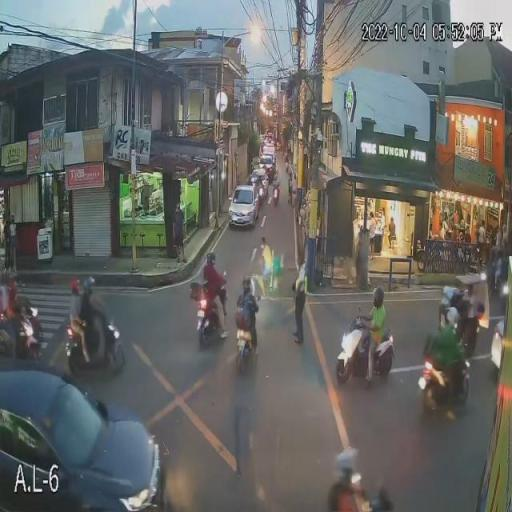helmet: (336, 448, 361, 476), (436, 303, 459, 331), (369, 287, 386, 308), (81, 276, 97, 294), (242, 274, 254, 293), (69, 278, 81, 296), (206, 251, 217, 263)
motorcycle: (334, 323, 396, 382), (64, 322, 127, 376), (417, 357, 470, 412), (194, 284, 224, 347), (234, 307, 261, 375)
rider: (432, 326, 462, 420), (362, 308, 386, 388), (83, 296, 109, 352), (70, 298, 89, 366), (330, 485, 374, 512), (236, 292, 259, 342), (199, 266, 223, 306)
